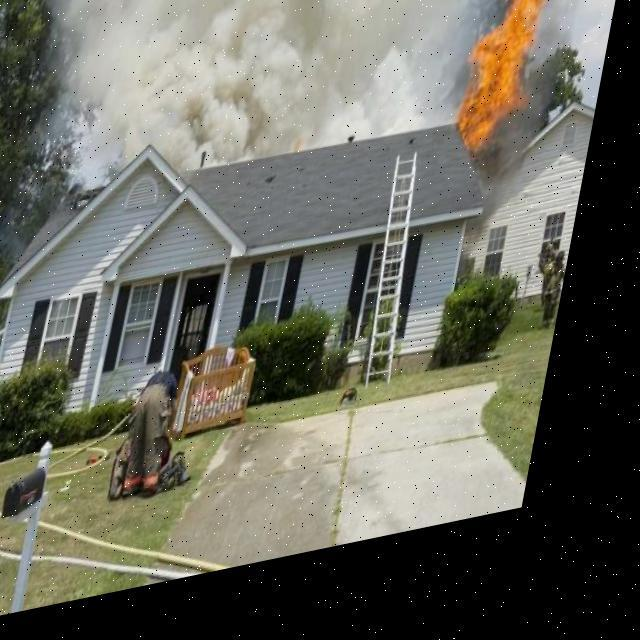Fire: (429, 0, 605, 185)
